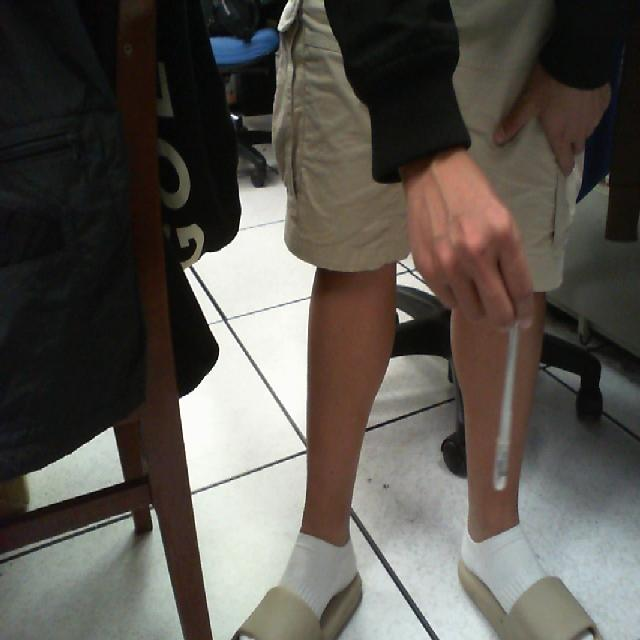Pen: (485, 292, 546, 508)
